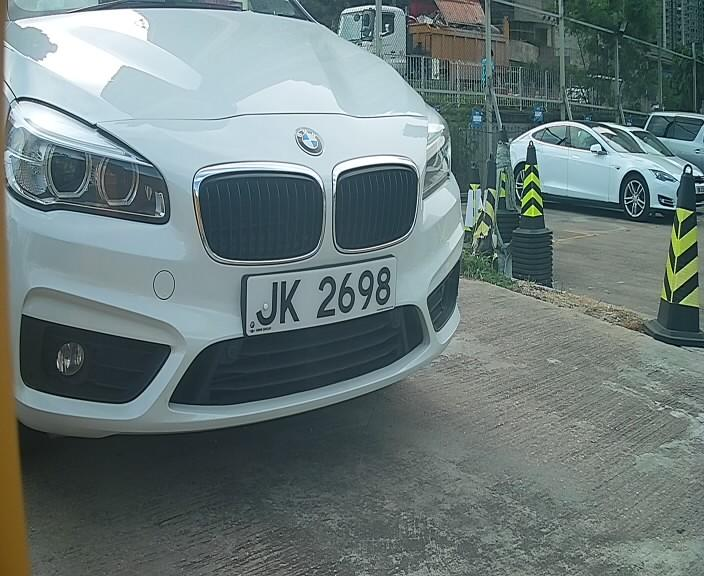License Plate: (236, 250, 400, 345)
